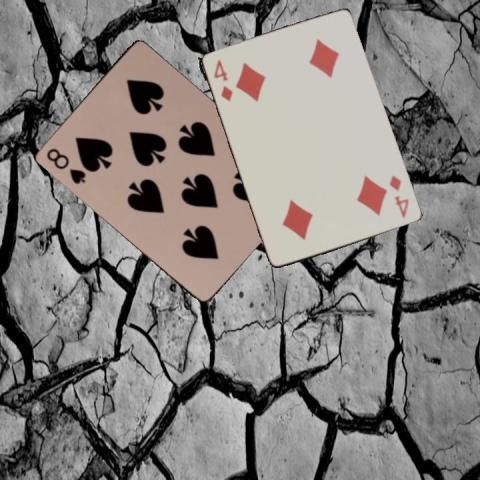4d: (210, 57, 235, 103), (386, 173, 410, 220)
8s: (42, 145, 86, 186)
